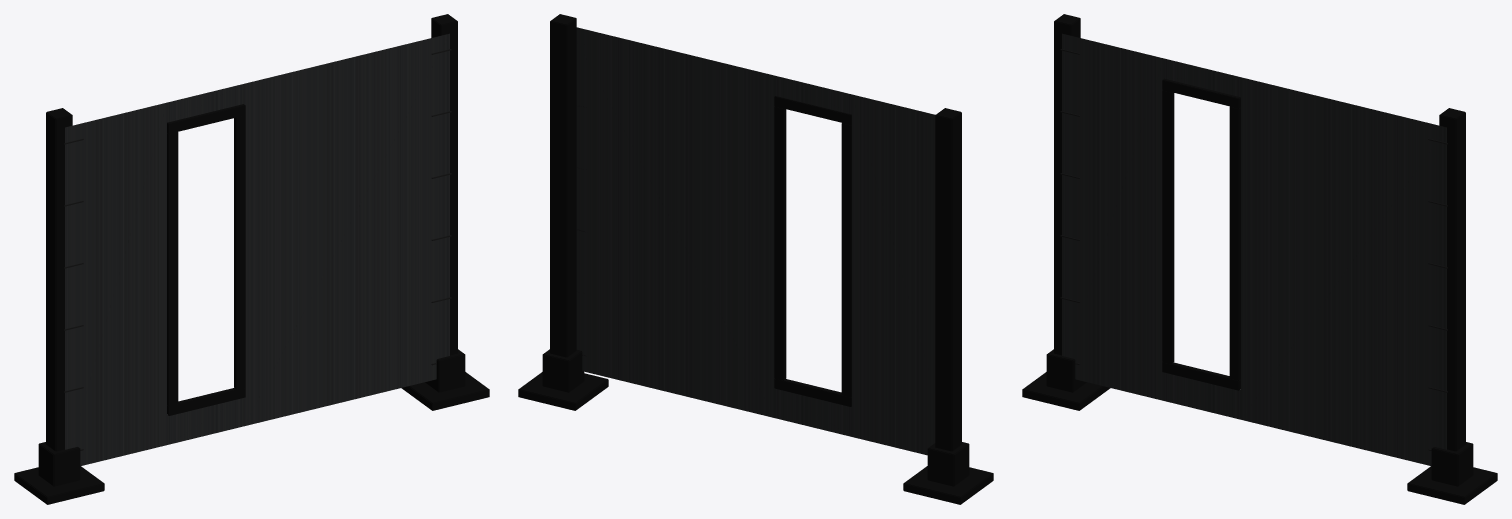
File: obj_mesh_wall_black_port.glb
3 views of the same model, side by side, from view 1: azimuth 30°, elevation 25°; view 2: azimuth 150°, elevation 25°; view 3: azimuth 330°, elevation 25° (orthographic).
Visible parts, largest first — view 1: mesh, mesh_wall_black_port_body; view 2: mesh, mesh_wall_black_port_body; view 3: mesh, mesh_wall_black_port_body.
Part boxes in pixels (x1,y1,x2,y2): mesh: (65, 33, 449, 466); mesh_wall_black_port_body: (14, 14, 489, 504); mesh: (576, 27, 935, 455); mesh_wall_black_port_body: (518, 14, 993, 504); mesh: (1062, 33, 1446, 466); mesh_wall_black_port_body: (1022, 14, 1497, 504).
Size of the model in its own units: 2.3 by 1.85 by 0.3.
Materials: 3 (2 with a texture image).
